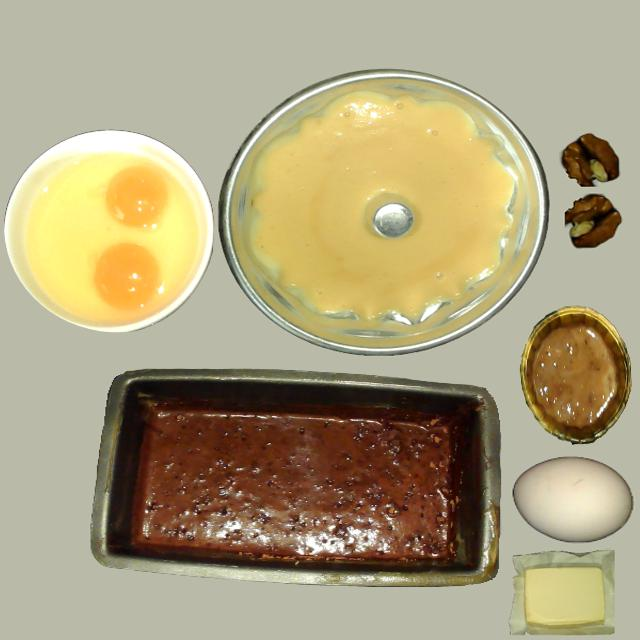Egg: (93, 244, 161, 308), (105, 165, 169, 229)
